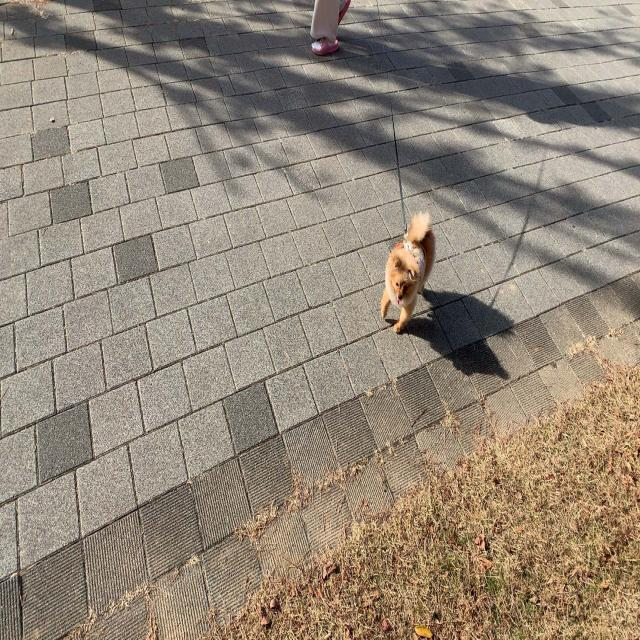Dog: (380, 205, 438, 336)
